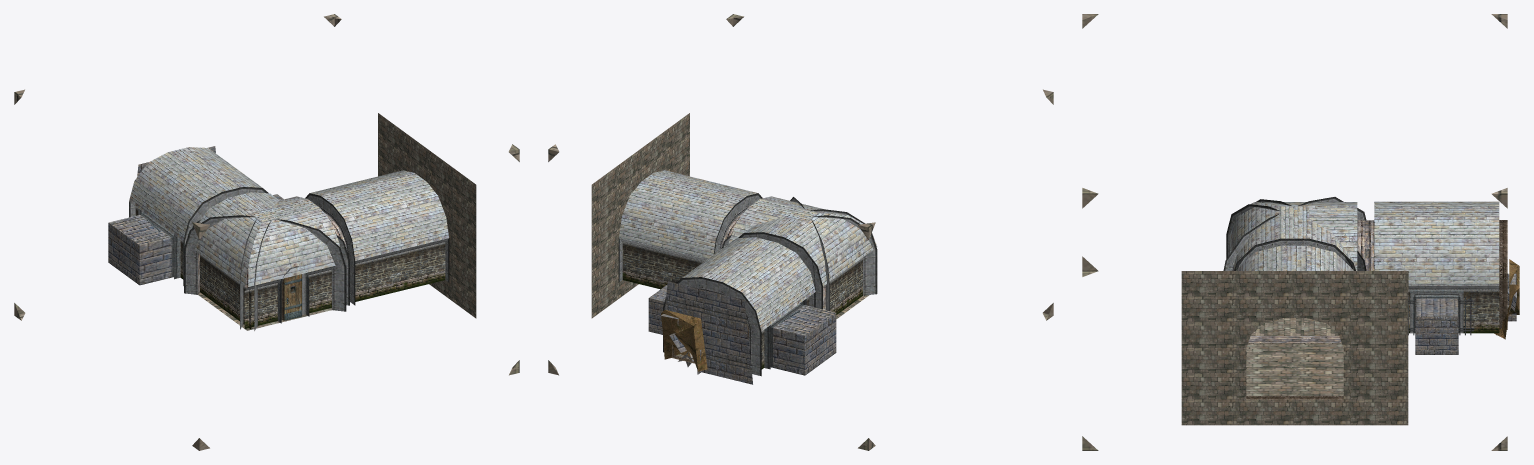
The model's file is lbg_1b.glb.
3 renders of one model, left to right at view 1: azimuth 30°, elevation 25°; view 2: azimuth 150°, elevation 25°; view 3: azimuth 270°, elevation 25°, orthographic. The views are drawn at different scales.
Visible parts, largest first — view 1: lbg_1b; view 2: lbg_1b; view 3: lbg_1b.
Part boxes in pixels (x1=…): lbg_1b: x1=14, y1=14, x2=519, y2=450; lbg_1b: x1=548, y1=14, x2=1053, y2=450; lbg_1b: x1=1082, y1=14, x2=1519, y2=450.
Bounding box in the file's own units: 15 × 10 × 15.42.
12 materials, 12 textured.
